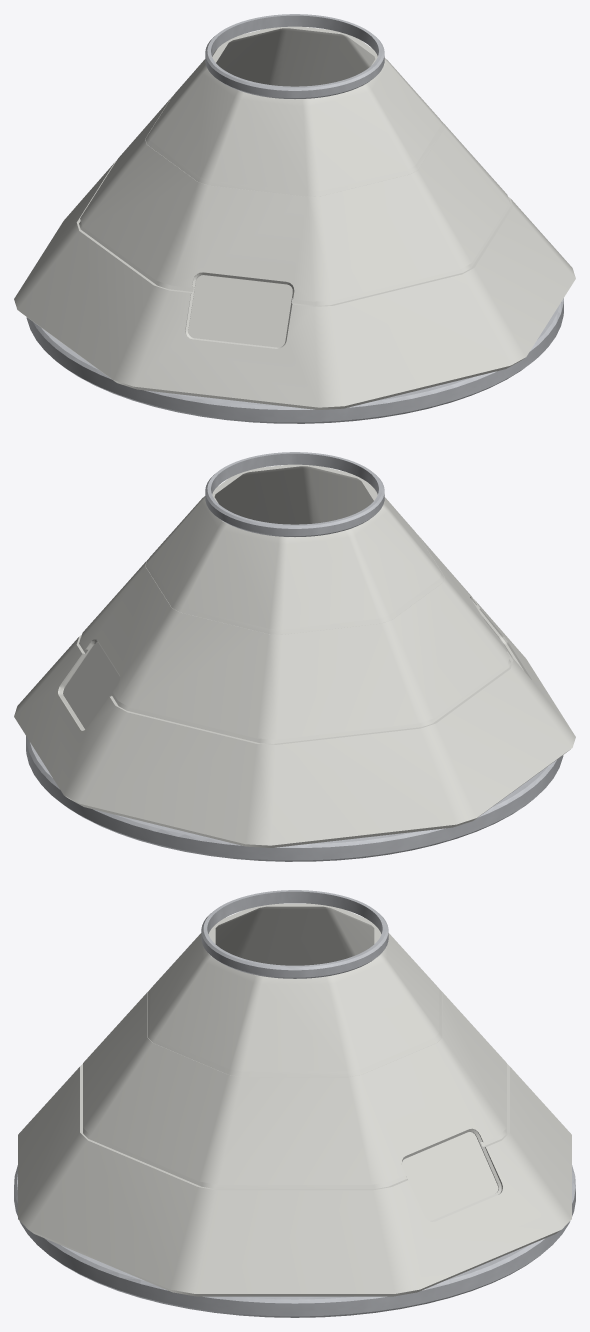
The model's file is ax_struct_05_skip_adapter_s_l.glb.
The picture shows the model from 3 angles, top to bottom: view 1: azimuth 30°, elevation 25°; view 2: azimuth 150°, elevation 25°; view 3: azimuth 270°, elevation 25°; orthographic projection. The views are drawn at different scales.
Visible parts, largest first — view 1: adapter_shell, interface_rings; view 2: adapter_shell, interface_rings; view 3: adapter_shell, interface_rings.
Boxes of the visible parts, bbox=[...] form: adapter_shell: bbox=[14, 26, 575, 409]; interface_rings: bbox=[26, 14, 563, 423]; adapter_shell: bbox=[14, 464, 575, 847]; interface_rings: bbox=[26, 452, 563, 861]; adapter_shell: bbox=[18, 903, 571, 1296]; interface_rings: bbox=[14, 890, 575, 1317].
Size of the model in its own units: 3.75 by 2 by 3.75.
Materials: 2 (1 with a texture image).
